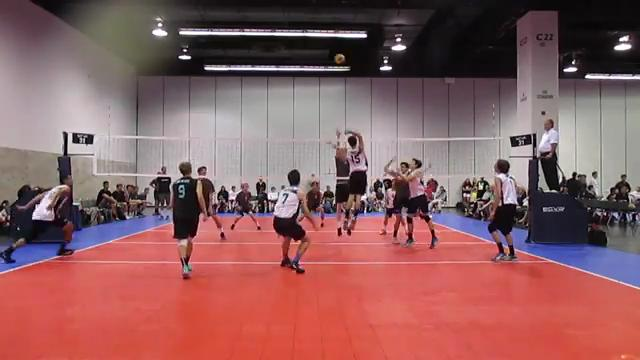Attack: (336, 127, 368, 237)
Block: (323, 134, 350, 238)
Player: (0, 175, 73, 262), (385, 158, 437, 247), (273, 169, 316, 273), (170, 162, 206, 277), (488, 159, 516, 261), (384, 160, 409, 243), (197, 166, 224, 239), (380, 179, 405, 243), (231, 183, 260, 229), (306, 181, 324, 226)
ball: (334, 52, 345, 65)
